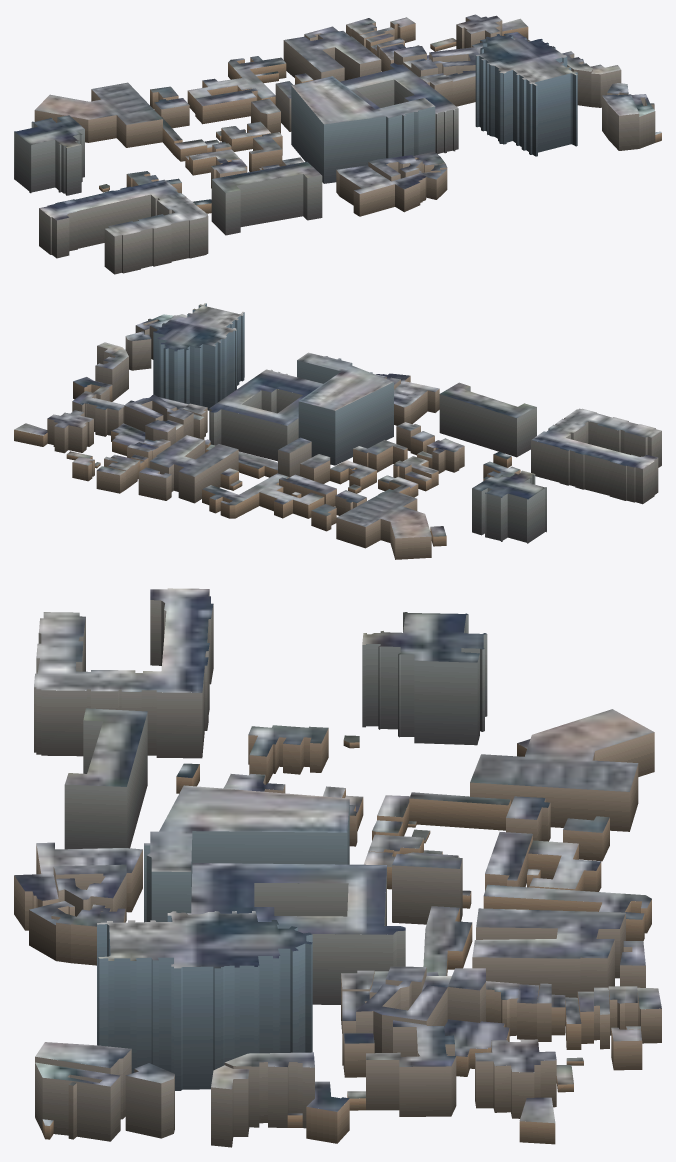
The picture shows the model from 3 angles, top to bottom: view 1: azimuth 30°, elevation 25°; view 2: azimuth 150°, elevation 25°; view 3: azimuth 270°, elevation 25°; orthographic projection. The views are drawn at different scales.
Size of the model in its own units: 375 by 43.5 by 208.
2 materials, 2 textured.
